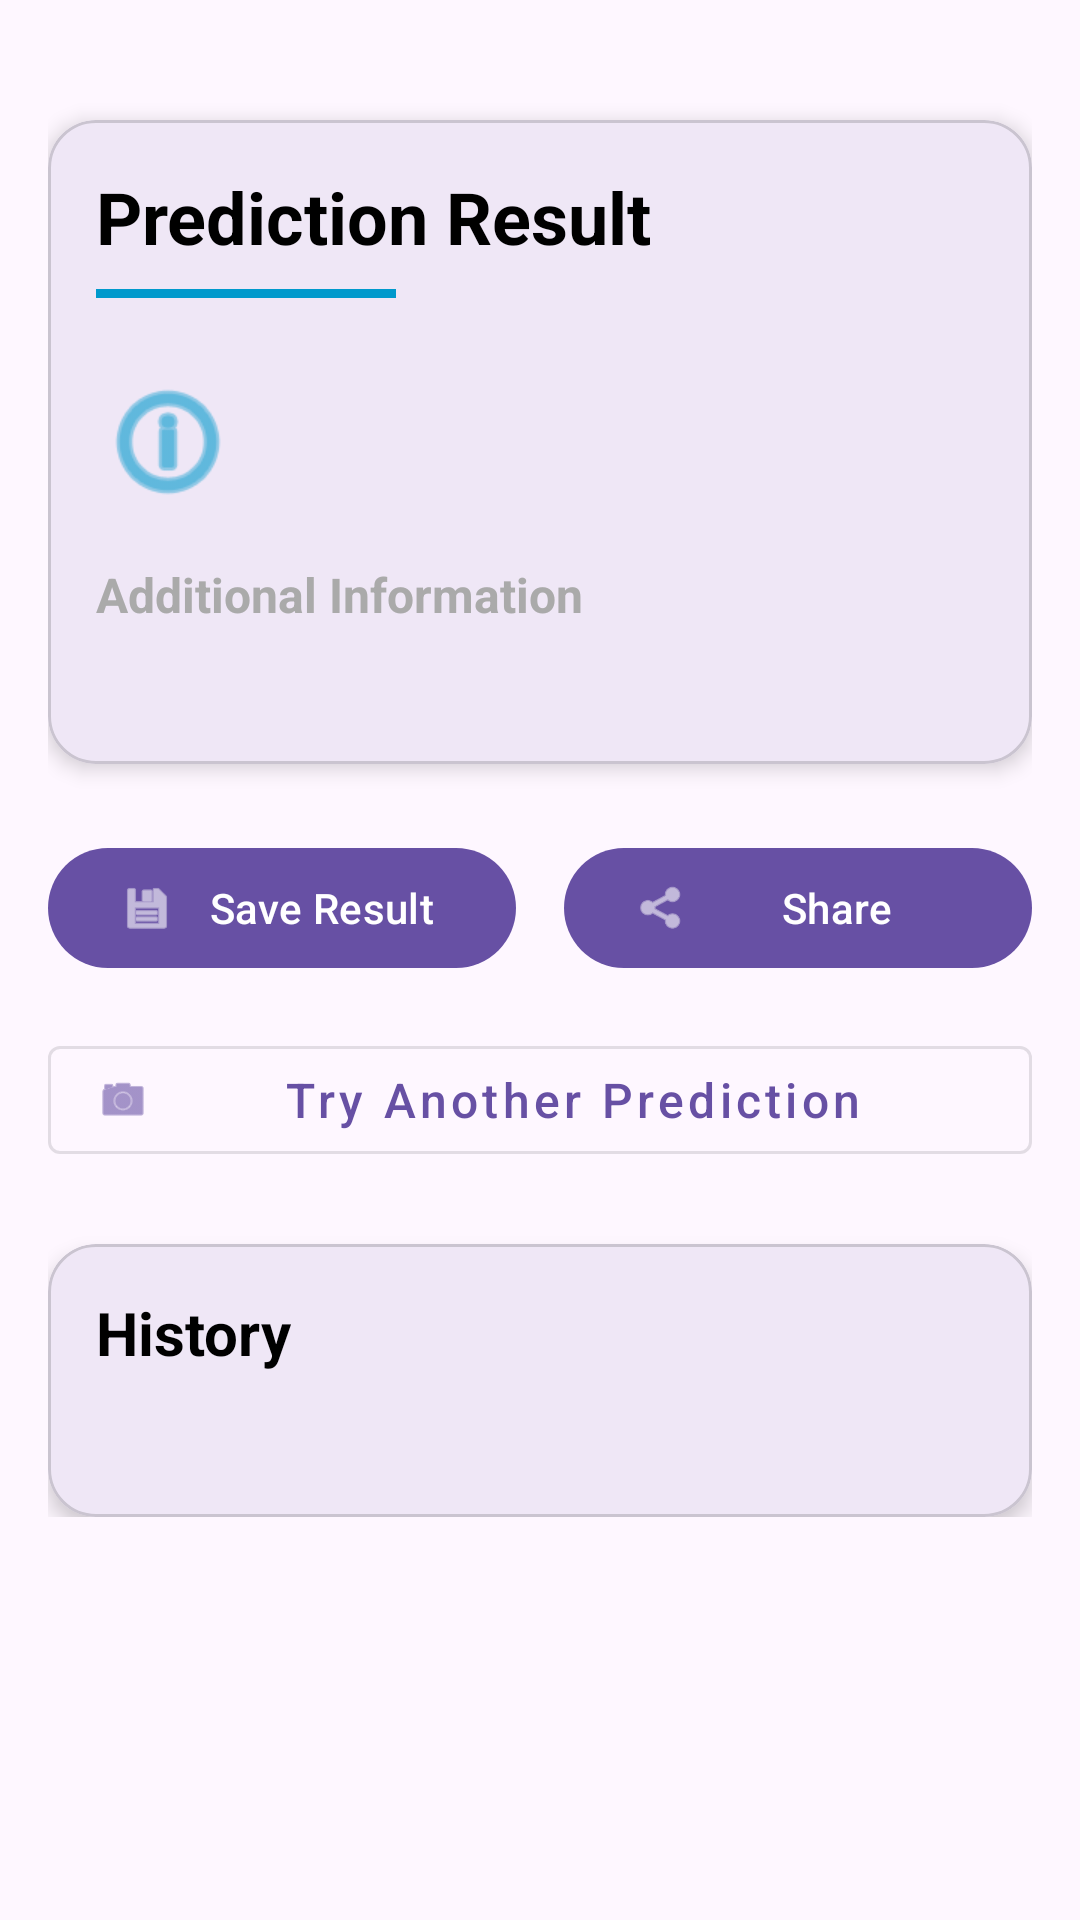

Where to tap for icons on this 1080×1920 app screen, as point (x, y):
info details: point (168, 442)
